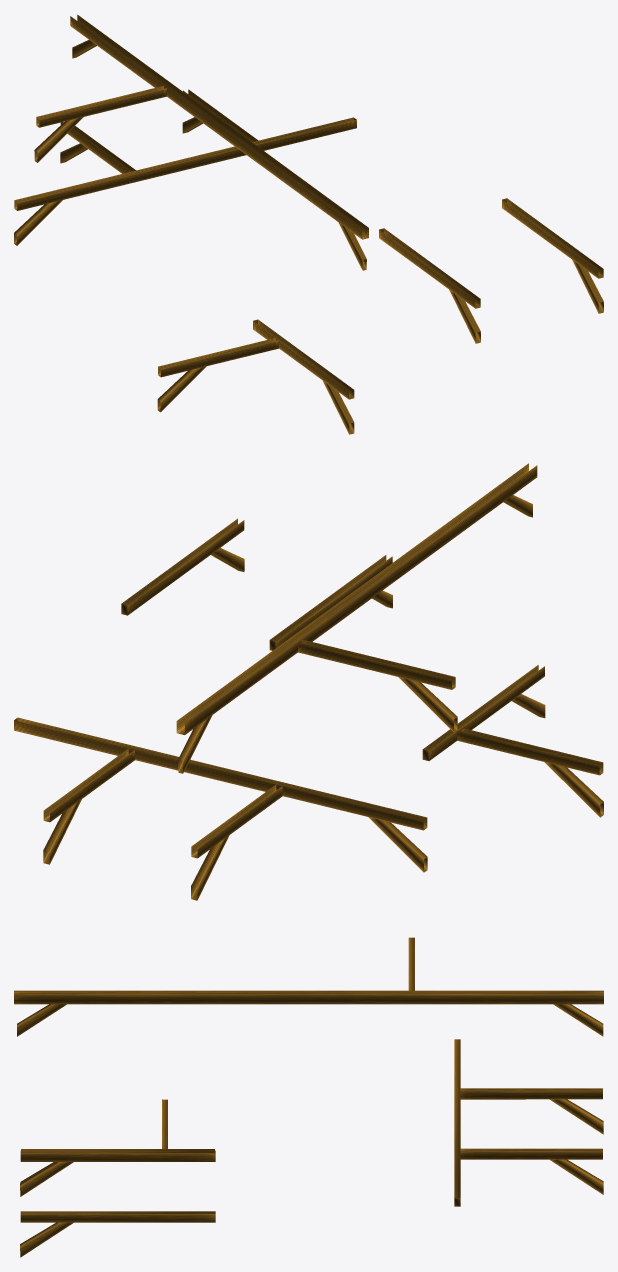
The model's file is HTOWN01_MILLPLATSUPPORTS.fbx.
3 views of the same model, one above another, from view 1: azimuth 30°, elevation 25°; view 2: azimuth 150°, elevation 25°; view 3: azimuth 270°, elevation 25° (orthographic). The views are drawn at different scales.
Parts seen in each view (by area): view 1: HTOWN01_MILLPLATSUPPORTS; view 2: HTOWN01_MILLPLATSUPPORTS; view 3: HTOWN01_MILLPLATSUPPORTS.
Boxes of the visible parts, <box> form: HTOWN01_MILLPLATSUPPORTS: <box>14,14,603,434</box>; HTOWN01_MILLPLATSUPPORTS: <box>14,463,603,900</box>; HTOWN01_MILLPLATSUPPORTS: <box>14,937,603,1257</box>.
Bounding box in the file's own units: 93099 × 48746 × 125812.
Materials: 1 (1 with a texture image).
